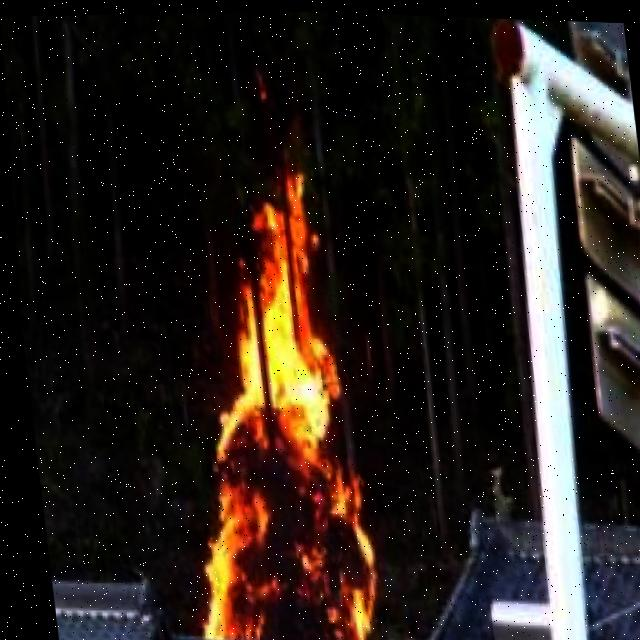Fire: (155, 189, 372, 640)
